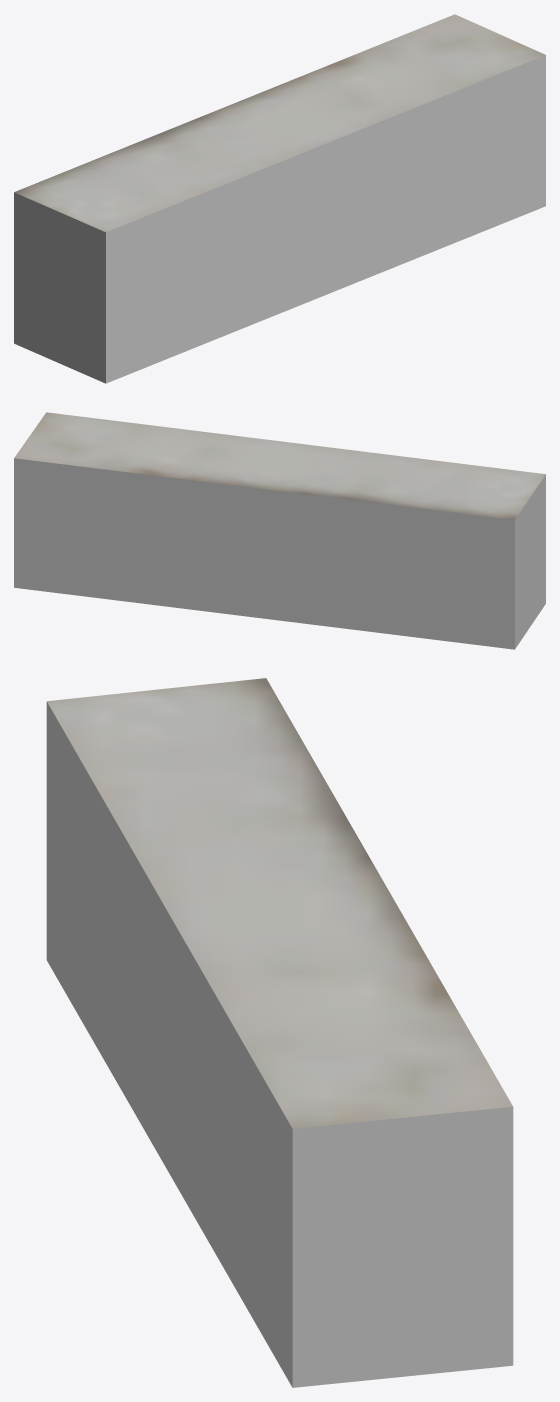
File: DEBW_0010007THTd.gltf
The picture shows the model from 3 angles, top to bottom: view 1: azimuth 30°, elevation 25°; view 2: azimuth 150°, elevation 25°; view 3: azimuth 270°, elevation 25°; orthographic projection. The views are drawn at different scales.
Parts seen in each view (by area): view 1: Z_UP; view 2: Z_UP; view 3: Z_UP.
Boxes of the visible parts, x1,y1,x2,y2 form: Z_UP: [14, 14, 545, 383]; Z_UP: [14, 412, 545, 649]; Z_UP: [46, 678, 513, 1387].
Bounding box in the file's own units: 9.33 × 2.5 × 4.08.
2 materials, 1 textured.
